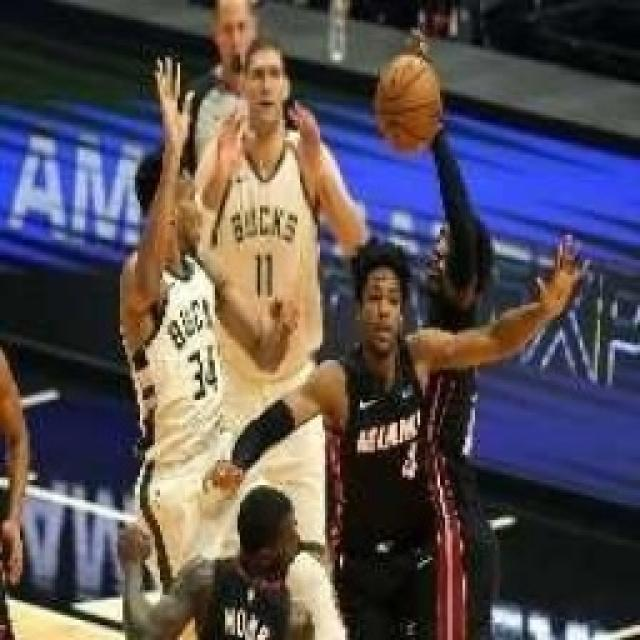rim: (372, 47, 447, 156)
